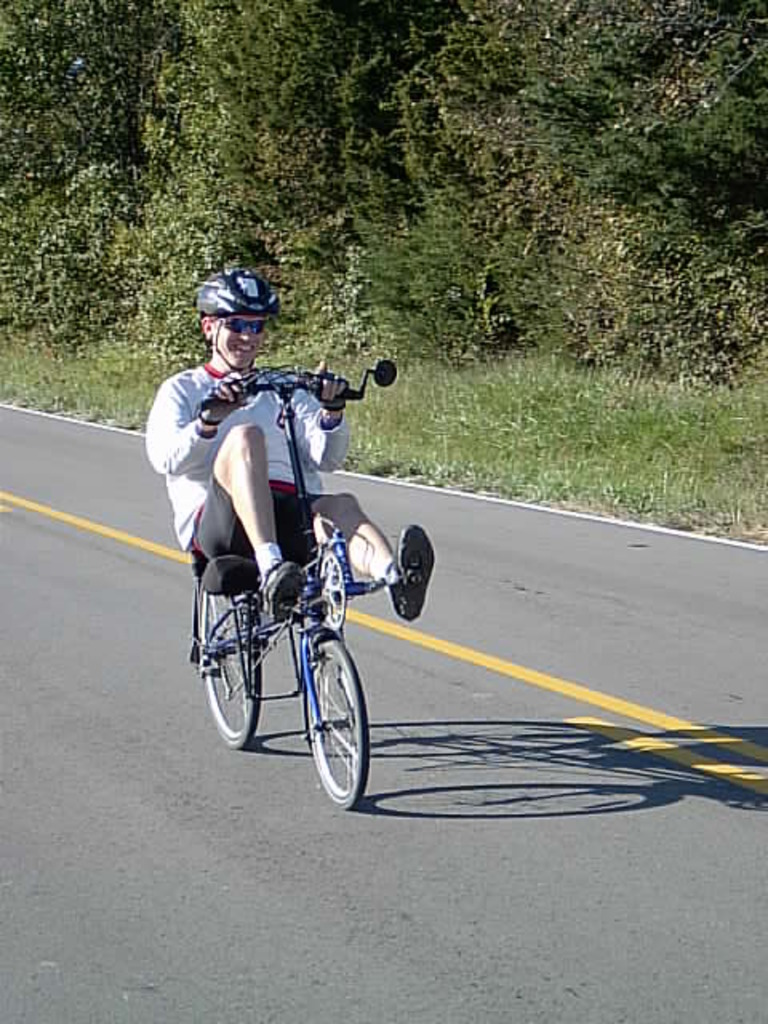Bike: (155, 355, 395, 832)
